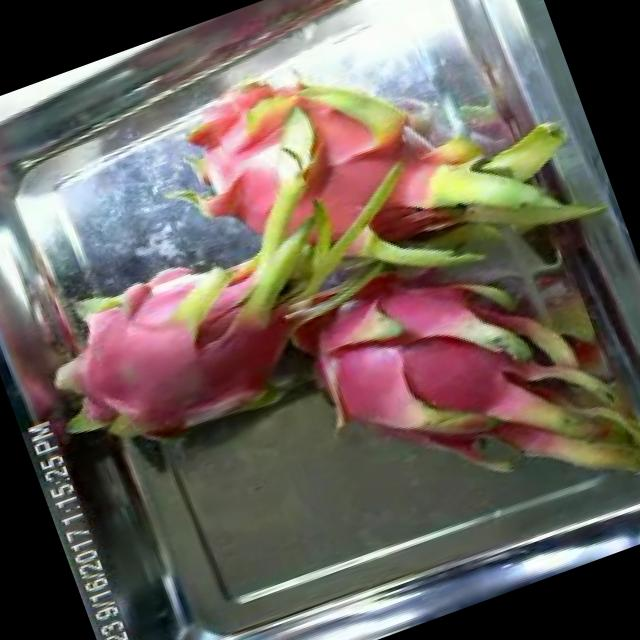Fruit: (374, 293, 547, 443)
